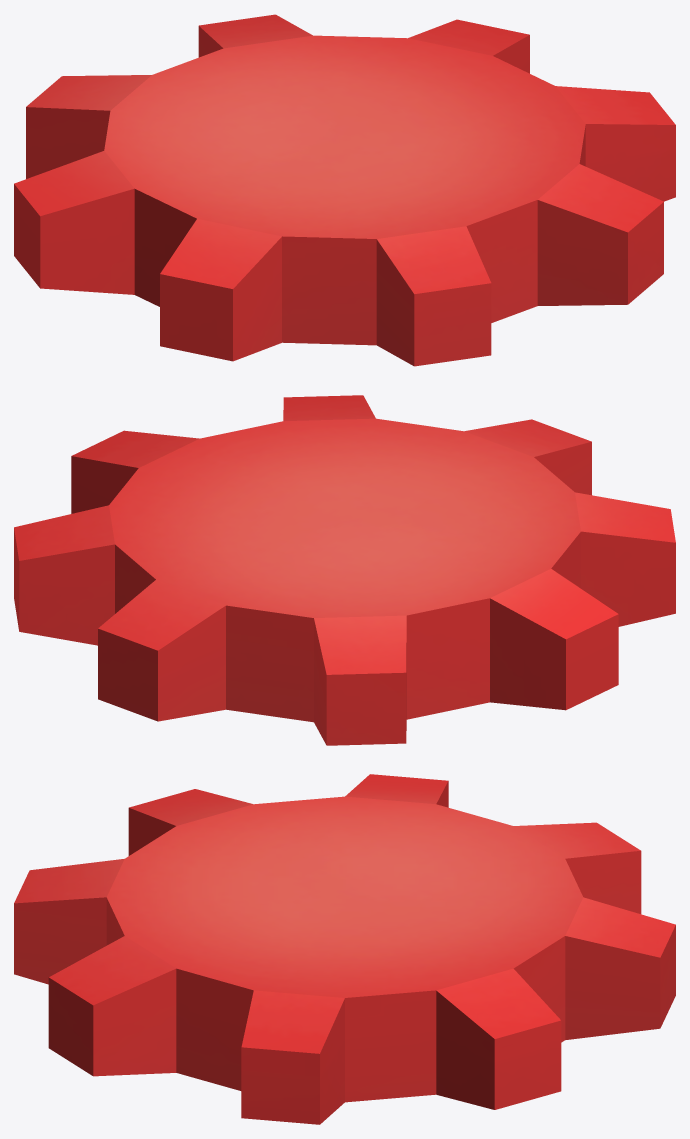
Rendered from M_Prop_Cog_001.fbx.
3 renders of one model, top to bottom at view 1: azimuth 30°, elevation 25°; view 2: azimuth 150°, elevation 25°; view 3: azimuth 270°, elevation 25°, orthographic. The views are drawn at different scales.
Visible parts, largest first — view 1: Cog1; view 2: Cog1; view 3: Cog1.
Part boxes in pixels (x1,y1,x2,y2): Cog1: (14,14,675,366); Cog1: (14,395,675,745); Cog1: (14,774,675,1124).
Bounding box in the file's own units: 24.05 × 4.18 × 24.05.
